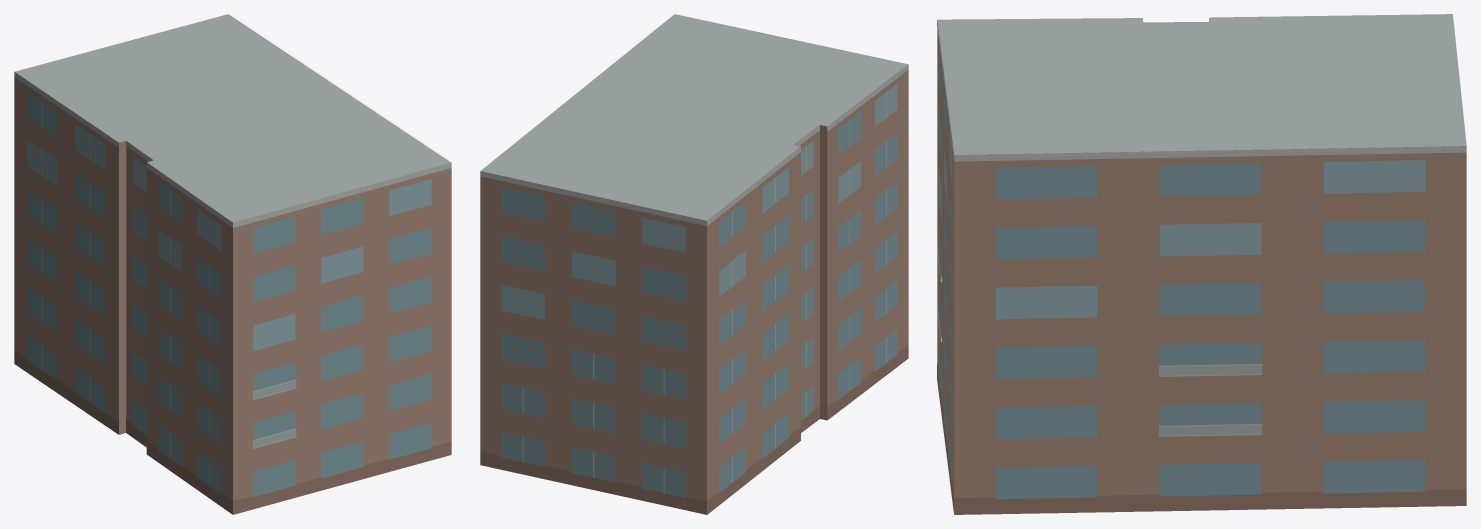
Rendered from survey-upis-32701908.glb.
The picture shows the model from 3 angles, left to right: view 1: azimuth 30°, elevation 25°; view 2: azimuth 150°, elevation 25°; view 3: azimuth 270°, elevation 25°; orthographic projection. The views are drawn at different scales.
Parts seen in each view (by area): view 1: survey-upis-32701908.tmp; view 2: survey-upis-32701908.tmp; view 3: survey-upis-32701908.tmp.
Part boxes in pixels (box(x1,y1,x2,y2)): survey-upis-32701908.tmp: box(14, 14, 451, 514); survey-upis-32701908.tmp: box(480, 14, 908, 514); survey-upis-32701908.tmp: box(937, 14, 1466, 514).
Bounding box in the file's own units: 11.32 × 13.45 × 17.95.
